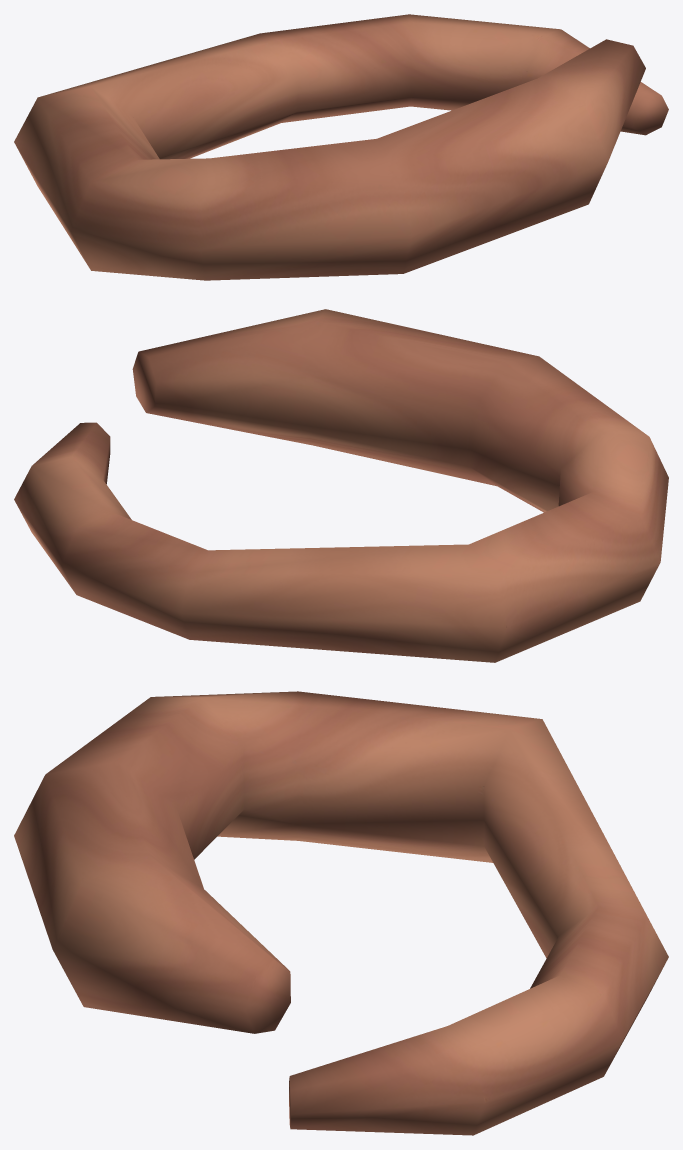
Rendered from isaw 2.fbx.
3 views of the same model, one above another, from view 1: azimuth 30°, elevation 25°; view 2: azimuth 150°, elevation 25°; view 3: azimuth 270°, elevation 25° (orthographic). The views are drawn at different scales.
Visible parts, largest first — view 1: isaw 2; view 2: isaw 2; view 3: isaw 2.
Boxes of the visible parts, x1=… form: isaw 2: x1=14, y1=14, x2=668, y2=280; isaw 2: x1=14, y1=309, x2=668, y2=662; isaw 2: x1=14, y1=691, x2=668, y2=1135.
Bounding box in the file's own units: 34.18 × 11.36 × 43.82.
Materials: 1 (1 with a texture image).
